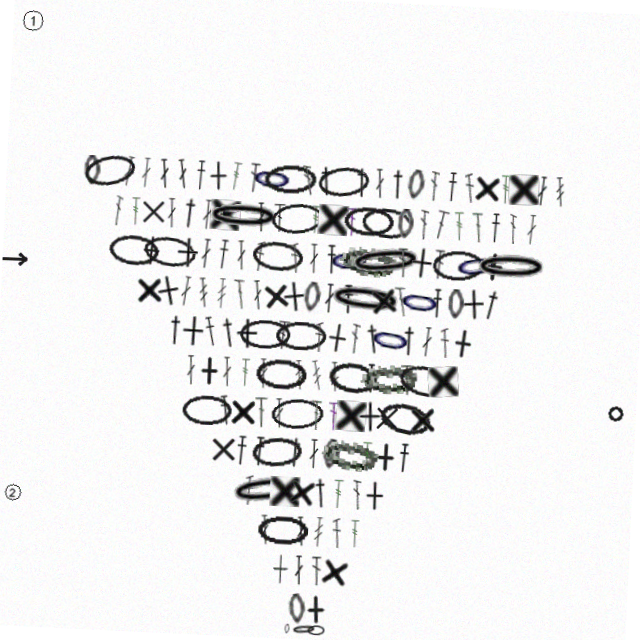chain: (236, 472, 314, 513), (344, 239, 422, 278), (326, 280, 403, 315), (75, 160, 132, 201), (471, 243, 546, 274), (201, 205, 276, 235), (382, 395, 437, 434), (400, 357, 455, 395), (327, 436, 385, 471), (139, 241, 194, 277), (310, 163, 365, 199), (336, 242, 394, 276), (265, 202, 321, 237), (363, 359, 420, 392), (257, 437, 310, 471), (356, 203, 409, 237), (275, 398, 329, 431), (248, 242, 302, 275), (330, 359, 382, 393), (450, 240, 496, 277), (257, 165, 310, 197), (105, 242, 156, 275), (429, 243, 481, 275), (258, 360, 309, 391), (339, 204, 390, 235), (369, 319, 414, 354), (276, 322, 328, 352), (267, 517, 318, 547), (186, 400, 237, 430), (240, 322, 291, 352), (397, 281, 441, 314), (325, 243, 368, 275), (244, 165, 287, 197), (301, 594, 320, 625), (328, 438, 347, 469), (400, 165, 419, 196), (302, 282, 320, 313), (77, 166, 94, 196), (447, 283, 463, 313), (393, 205, 409, 235), (306, 624, 331, 636), (322, 625, 339, 635), (299, 625, 304, 635)
double: (428, 204, 445, 235), (393, 282, 408, 313), (232, 282, 246, 313), (115, 165, 129, 196), (169, 165, 183, 196), (259, 400, 273, 430), (403, 361, 417, 391), (277, 322, 291, 352), (178, 282, 191, 313), (250, 283, 263, 313), (269, 517, 281, 547), (305, 517, 317, 547), (314, 400, 326, 430), (422, 322, 434, 352), (197, 244, 209, 274), (269, 205, 281, 235), (467, 205, 479, 235), (521, 205, 533, 235), (152, 166, 164, 196), (242, 166, 254, 196), (530, 166, 542, 196), (305, 556, 316, 586), (323, 556, 334, 586), (278, 400, 289, 430), (188, 361, 199, 391), (224, 361, 235, 391), (350, 322, 361, 352), (323, 283, 334, 313), (233, 244, 244, 274), (287, 244, 298, 274), (395, 244, 406, 274), (431, 244, 442, 274), (197, 205, 208, 235), (251, 205, 262, 235), (134, 166, 145, 196), (296, 166, 307, 196), (368, 166, 379, 196), (422, 166, 433, 196), (458, 166, 469, 196), (342, 517, 352, 547), (315, 439, 325, 469), (333, 400, 343, 430), (261, 361, 271, 391), (441, 322, 451, 352), (252, 244, 262, 274), (306, 244, 316, 274), (108, 205, 118, 235), (162, 205, 172, 235), (342, 205, 352, 235), (414, 205, 424, 235), (253, 478, 261, 508), (361, 478, 369, 508), (316, 322, 324, 352), (505, 205, 512, 235)
half_double: (479, 281, 502, 314), (219, 321, 240, 353), (364, 321, 384, 352), (175, 204, 195, 235), (292, 438, 311, 469), (320, 478, 338, 508), (167, 322, 185, 352), (401, 322, 419, 352), (311, 166, 329, 196), (203, 321, 220, 352), (347, 166, 364, 196), (383, 166, 400, 196), (222, 399, 237, 430), (241, 439, 254, 469), (259, 439, 272, 469), (214, 244, 227, 274), (404, 439, 416, 469), (341, 283, 353, 313), (485, 205, 497, 235), (188, 166, 200, 196), (440, 166, 452, 196), (368, 361, 379, 391), (431, 283, 442, 313), (323, 244, 334, 274)
noise: (7, 22, 32, 47), (609, 389, 630, 410), (11, 496, 31, 516), (0, 266, 27, 280)
single: (258, 281, 292, 315), (331, 554, 363, 588), (367, 281, 399, 314), (430, 360, 462, 392), (322, 321, 354, 353), (448, 321, 480, 353), (475, 243, 507, 275), (295, 476, 326, 509), (214, 438, 245, 469), (340, 399, 371, 430), (133, 243, 164, 274), (133, 204, 164, 235), (205, 204, 236, 235), (313, 204, 344, 235), (196, 165, 227, 196), (502, 165, 533, 196), (153, 281, 181, 315), (314, 594, 344, 625), (278, 478, 308, 508), (368, 478, 398, 508), (197, 361, 227, 391), (413, 399, 442, 430), (134, 282, 163, 313), (467, 165, 496, 196), (377, 439, 406, 469), (377, 400, 406, 430), (234, 400, 262, 430), (280, 282, 306, 314), (460, 282, 485, 313), (406, 243, 431, 274), (362, 399, 386, 430), (182, 322, 205, 352), (236, 322, 259, 352), (173, 244, 196, 274), (285, 556, 300, 586)
treble: (312, 360, 327, 391), (223, 165, 236, 196), (196, 283, 209, 313), (296, 361, 308, 391), (449, 205, 461, 235), (548, 166, 560, 196), (323, 517, 334, 547), (341, 478, 352, 508), (368, 439, 379, 469), (332, 361, 343, 391), (215, 283, 226, 313), (494, 166, 505, 196), (360, 517, 370, 547), (243, 361, 253, 391), (126, 205, 136, 235), (306, 205, 316, 235)
